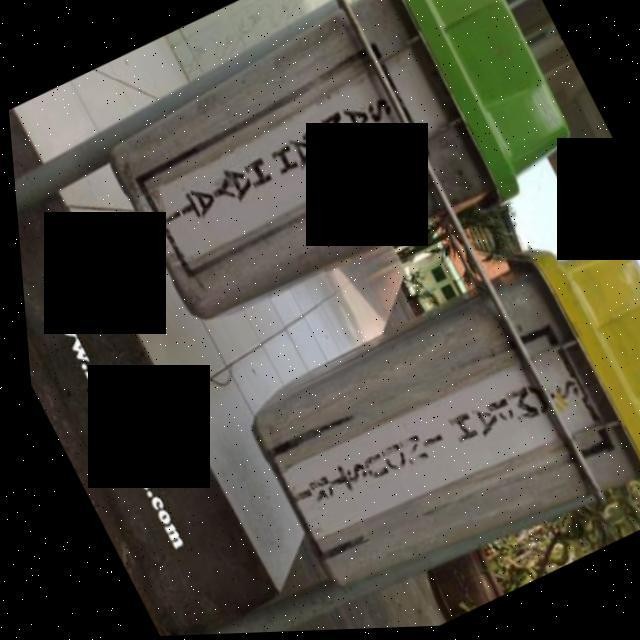bin: (48, 0, 618, 389), (204, 218, 640, 634)
